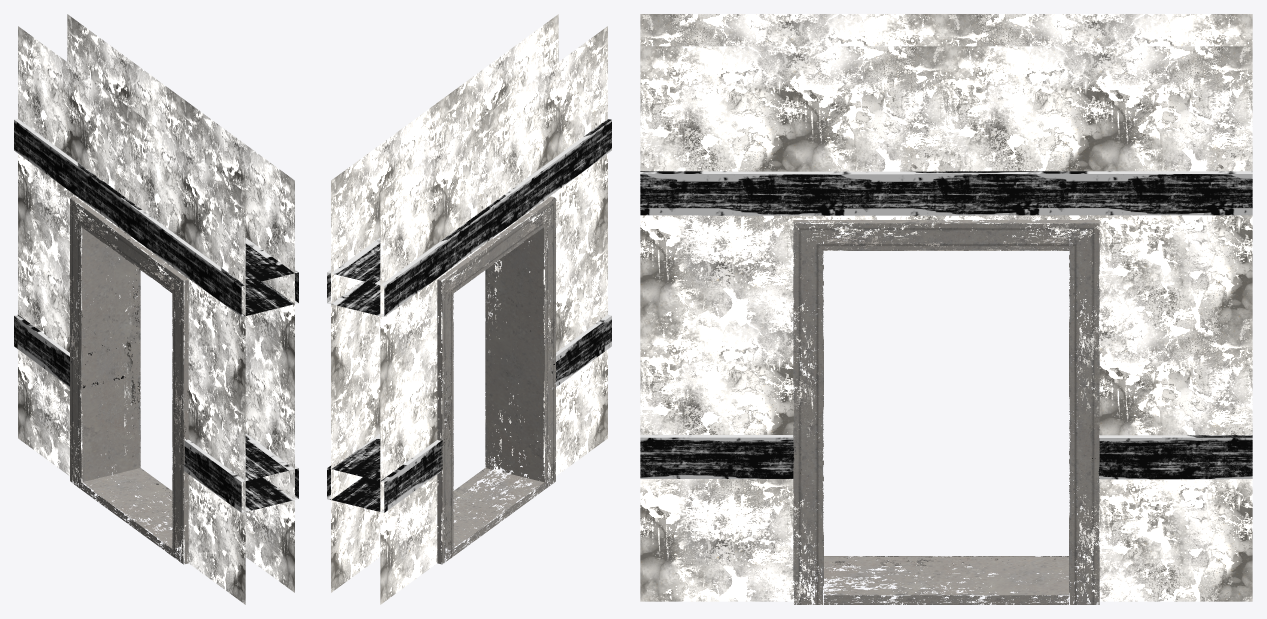
The model's file is SM_wall_A_doorway_4x4_01_03.fbx.
3 renders of one model, left to right at view 1: azimuth 30°, elevation 25°; view 2: azimuth 150°, elevation 25°; view 3: azimuth 270°, elevation 25°, orthographic. The views are drawn at different scales.
Parts seen in each view (by area): view 1: SM_wall_A_doorway_4x4_01_03_LOD0; view 2: SM_wall_A_doorway_4x4_01_03_LOD0; view 3: SM_wall_A_doorway_4x4_01_03_LOD0.
Boxes of the visible parts, x1,y1,x2,y2 form: SM_wall_A_doorway_4x4_01_03_LOD0: (14,14,298,604); SM_wall_A_doorway_4x4_01_03_LOD0: (327,14,611,604); SM_wall_A_doorway_4x4_01_03_LOD0: (640,14,1252,604).
Bounding box in the file's own units: 60.46 × 400 × 400.
Materials: 4 (4 with a texture image).
